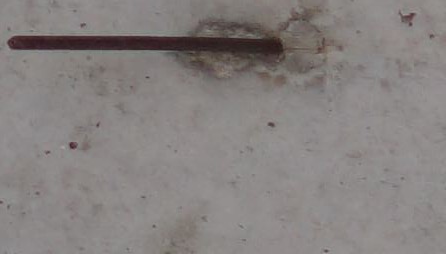Exposed reinforcement: (7, 35, 284, 55)
Spalling: (192, 17, 327, 74)
